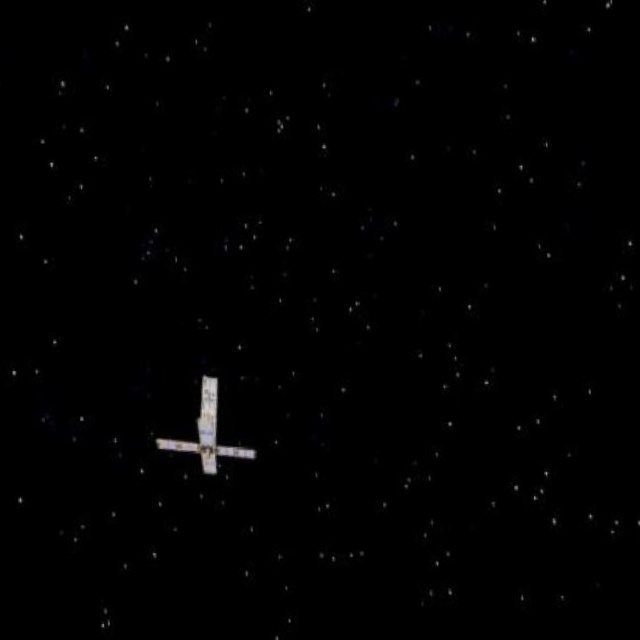medium_debris: (147, 367, 264, 490)
